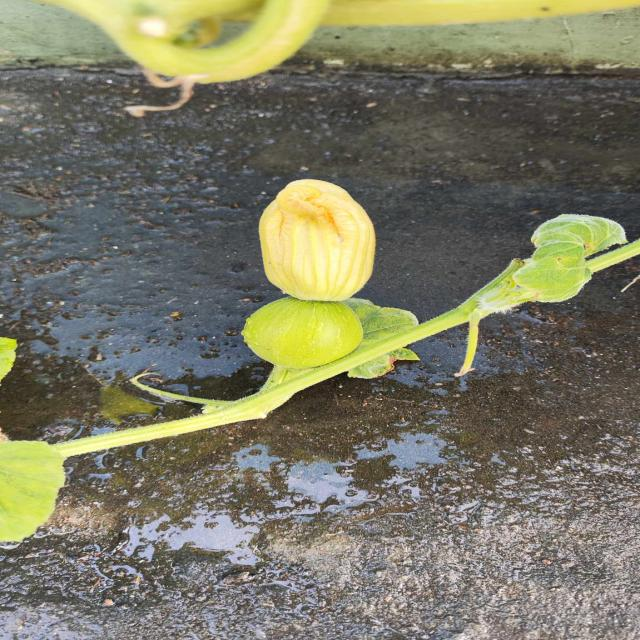flower: (248, 166, 393, 303)
squash: (241, 296, 364, 370)
